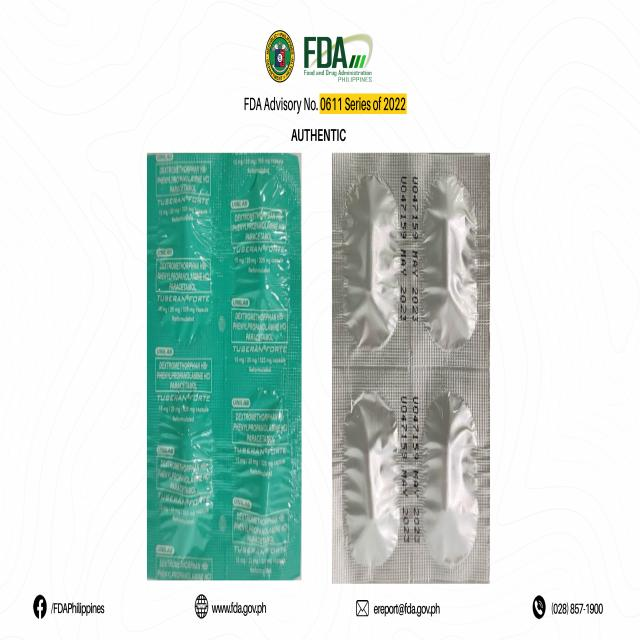authentic: (326, 146, 494, 585), (145, 147, 302, 585)
